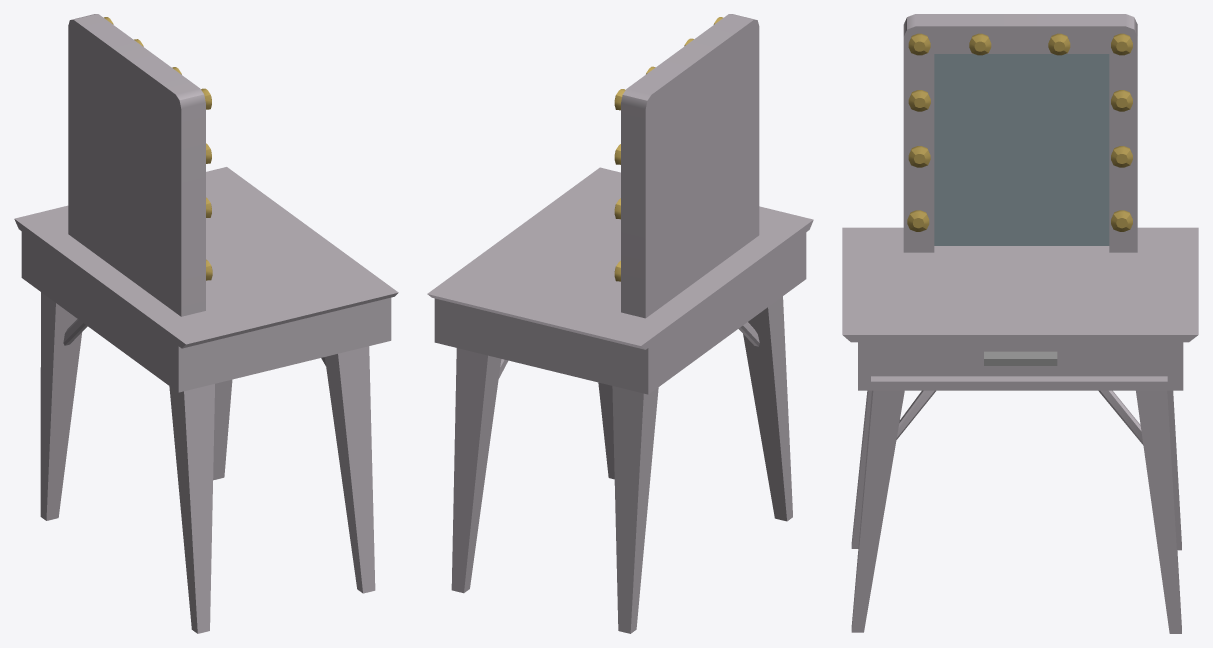
File: vanity_lowpoly.fbx
3 renders of one model, left to right at view 1: azimuth 30°, elevation 25°; view 2: azimuth 150°, elevation 25°; view 3: azimuth 270°, elevation 25°, orthographic. The views are drawn at different scales.
Visible parts, largest first — view 1: Vanity; view 2: Vanity; view 3: Vanity.
Boxes of the visible parts, left/top/right/bottom form: Vanity: left=14, top=14, right=398, bottom=633; Vanity: left=427, top=14, right=813, bottom=633; Vanity: left=842, top=14, right=1198, bottom=633.
Bounding box in the file's own units: 5.64 × 12.99 × 7.86.
